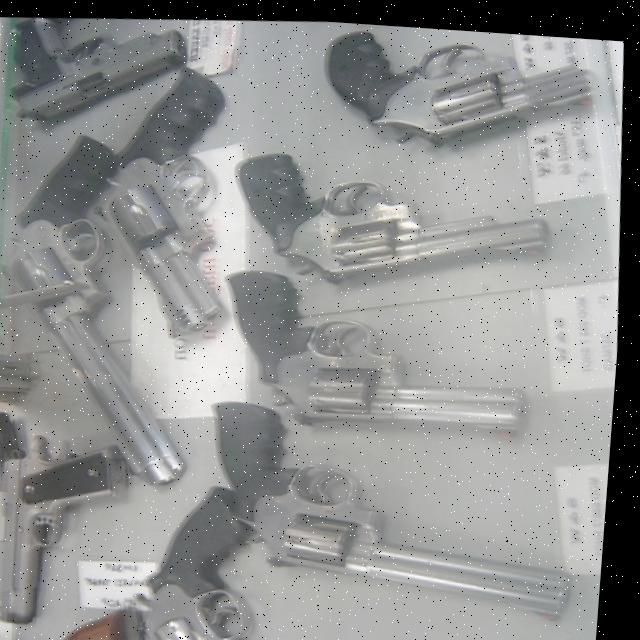pistol: (202, 375, 597, 634), (0, 121, 218, 496), (216, 248, 541, 449), (226, 130, 562, 298), (77, 54, 244, 343), (317, 17, 605, 155), (0, 423, 152, 632), (130, 473, 279, 640), (1, 7, 193, 130), (25, 595, 159, 640)
